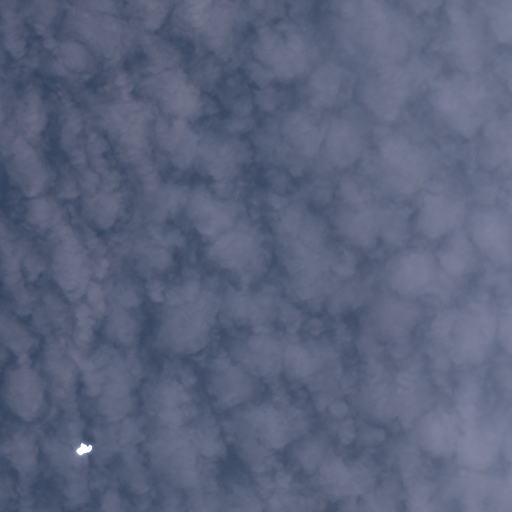Iceberg: (76, 442, 92, 455)
